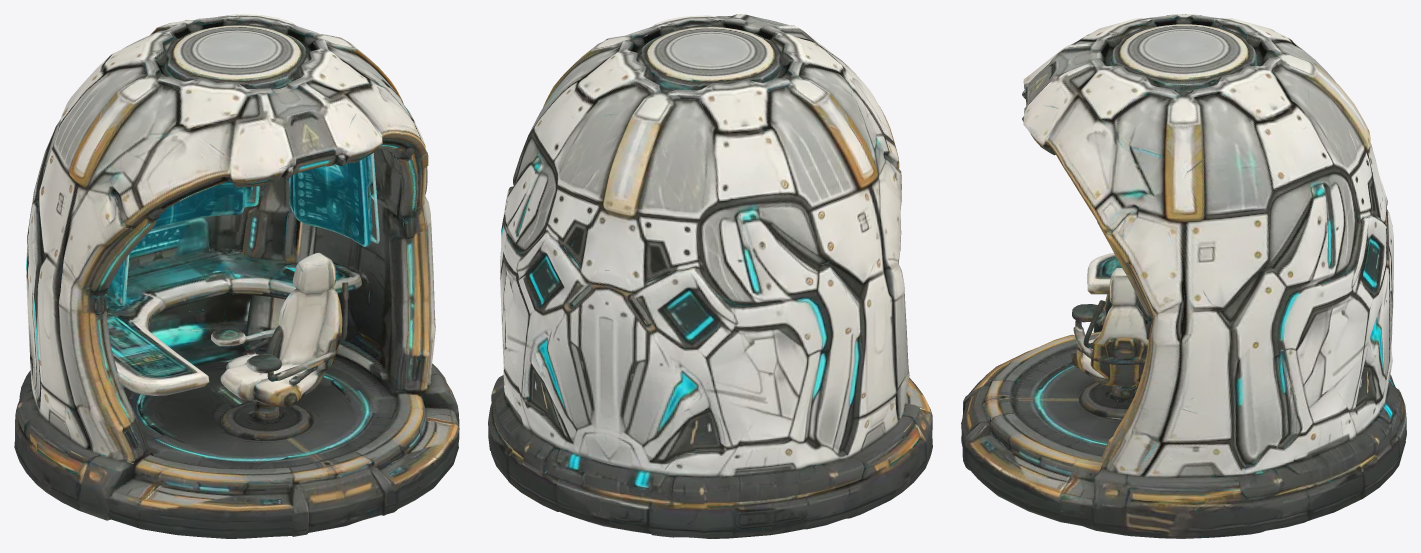
File: eoncity_creator_work_pod.662f139f6c88.glb
The picture shows the model from 3 angles, left to right: view 1: azimuth 30°, elevation 25°; view 2: azimuth 150°, elevation 25°; view 3: azimuth 270°, elevation 25°; orthographic projection.
Visible parts, largest first — view 1: Mesh1.0; view 2: Mesh1.0; view 3: Mesh1.0.
Part boxes in pixels (x1,y1,x2,y2): Mesh1.0: (14, 14, 459, 538); Mesh1.0: (488, 14, 932, 538); Mesh1.0: (961, 14, 1406, 538).
Size of the model in its own units: 1.9 by 1.87 by 1.89.
1 material, 1 textured.
